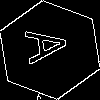A: (25, 25, 78, 65)
